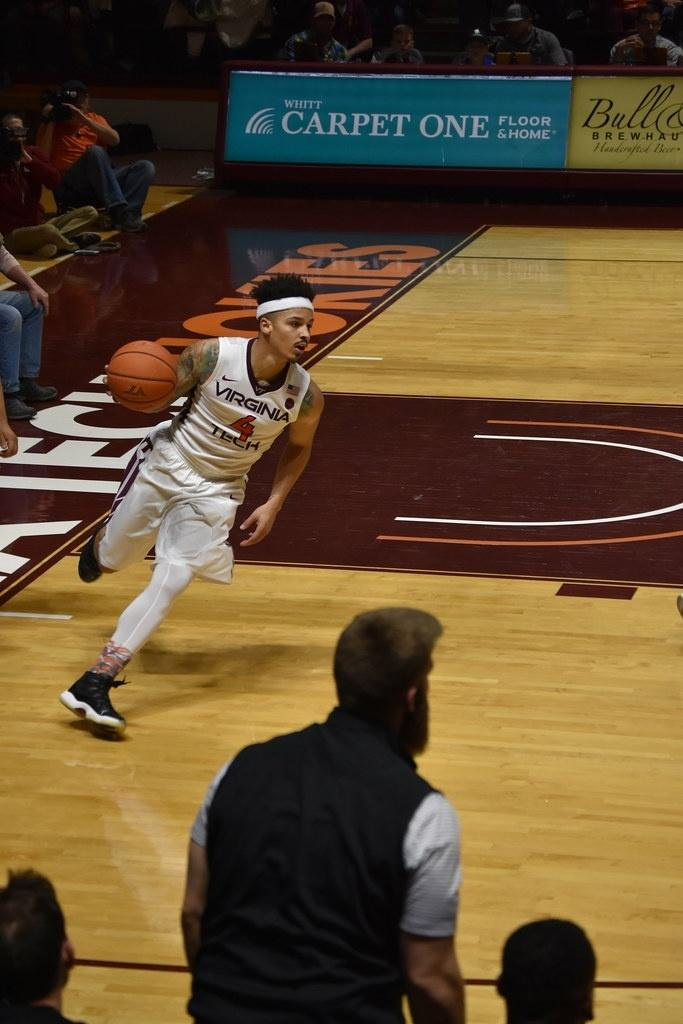basketball-player: (4, 240, 340, 737)
